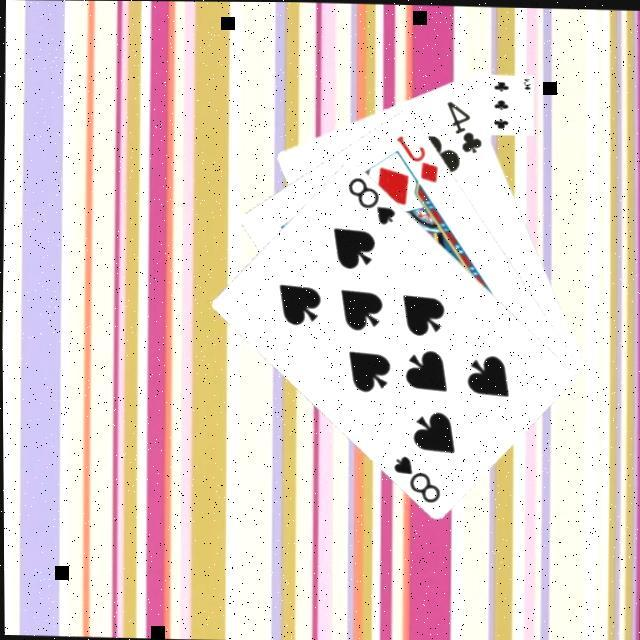4C: (444, 95, 486, 154)
8S: (345, 171, 400, 226), (390, 449, 445, 504)
JD: (393, 129, 444, 184)
